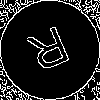R: (25, 25, 76, 81)
